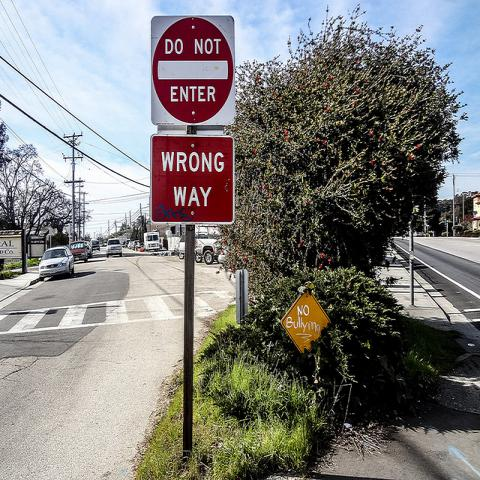car: (38, 245, 75, 281), (214, 241, 231, 266), (69, 241, 88, 262), (106, 238, 122, 258), (177, 234, 186, 259), (90, 240, 101, 254), (84, 241, 92, 258), (128, 242, 133, 250)
truck: (197, 238, 223, 265), (144, 231, 160, 251)
